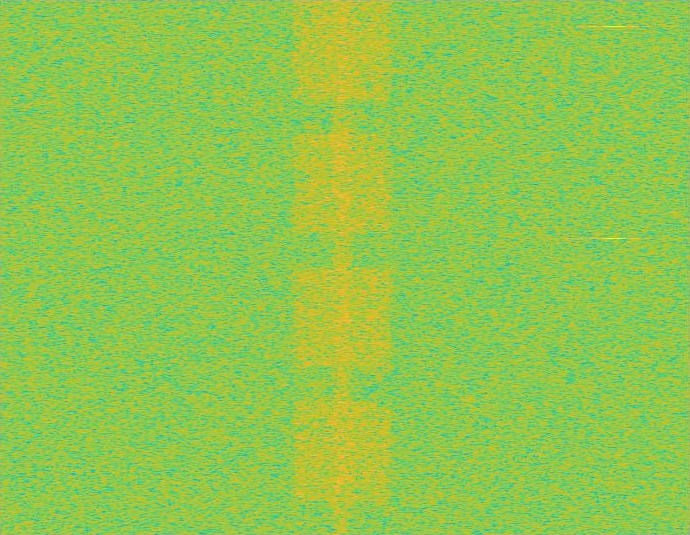5G: (290, 0, 394, 534)
DSSS: (331, 0, 354, 534)
Radar: (608, 0, 621, 534)
